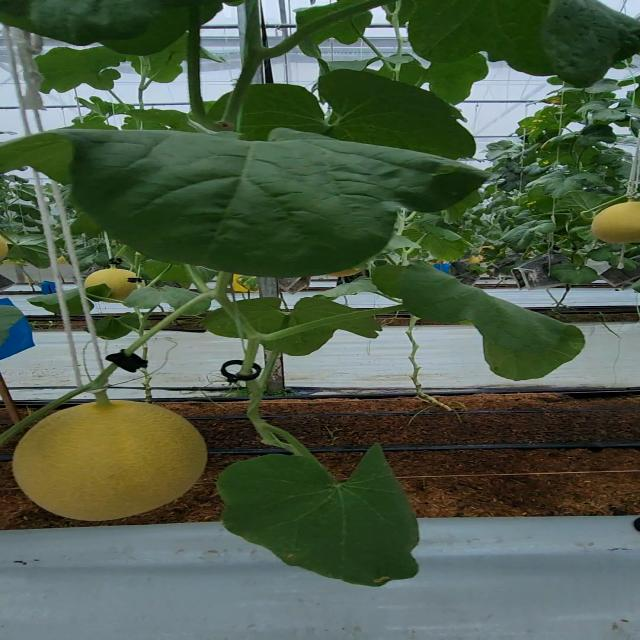Melon: (13, 394, 214, 527)
